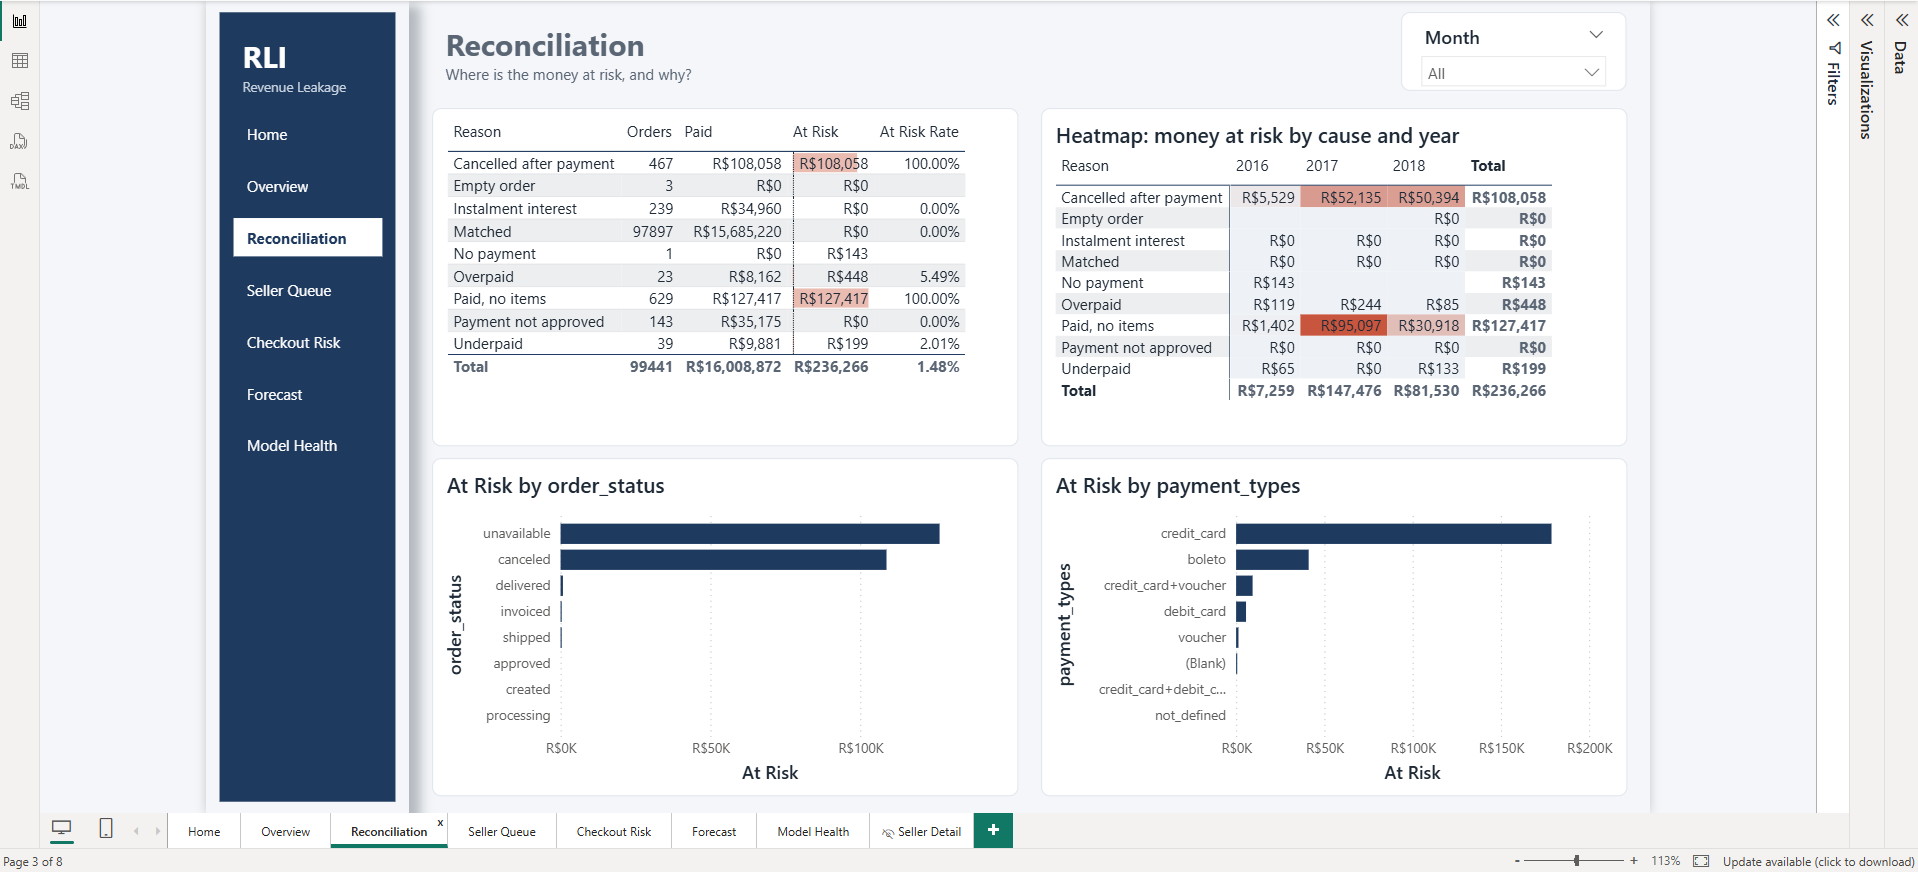

The dashboard page shown, as its layout file describes it:
{"tool":"powerbi","page":{"name":"Reconciliation","canvas":[1280,720],"ordinal":2},"visuals":[{"type":"shape","box":[0,0,180,720],"z":0},{"type":"pageNavigator","box":[12,90,156,330],"z":1},{"type":"textbox","box":[20,20,150,78],"z":2},{"type":"textbox","box":[200,10,600,75],"z":3},{"type":"slicer","fields":{"Values":["DimDate.Month"]},"box":[1060,10,200,70],"z":4},{"type":"tableEx","fields":{"Values":["mart_order_reconciliation.Reason","_Measures.Orders","_Measures.Paid","_Measures.At Risk","_Measures.At Risk Rate"]},"box":[200,95,520,300],"z":5},{"type":"barChart","fields":{"Y":["_Measures.At Risk"],"Category":["mart_order_reconciliation.order_status"]},"box":[200,405,520,300],"z":6},{"type":"barChart","fields":{"Y":["_Measures.At Risk"],"Category":["mart_order_reconciliation.payment_types"]},"box":[740,405,520,300],"z":7},{"type":"pivotTable","title":"Heatmap: money at risk by cause and year","fields":{"Rows":["mart_order_reconciliation.Reason"],"Columns":["DimDate.Year"],"Values":["_Measures.At Risk"]},"box":[740,95,520,300],"z":8}]}

Visuals, with their boxes on the page's 1280x720 design canvas (x1, y1, x2, y2). These are canvas units, not pixel positions in the 1918x872 screenshot, which may show the page scaled, cropped or inside an application window:
shape: <box>0,0,180,720</box>
pageNavigator: <box>12,90,168,420</box>
textbox: <box>20,20,170,98</box>
textbox: <box>200,10,800,85</box>
slicer - DimDate.Month: <box>1060,10,1260,80</box>
tableEx - mart_order_reconciliation.Reason x _Measures.Orders: <box>200,95,720,395</box>
barChart - _Measures.At Risk x mart_order_reconciliation.order_status: <box>200,405,720,705</box>
barChart - _Measures.At Risk x mart_order_reconciliation.payment_types: <box>740,405,1260,705</box>
"Heatmap: money at risk by cause and year" pivotTable: <box>740,95,1260,395</box>
